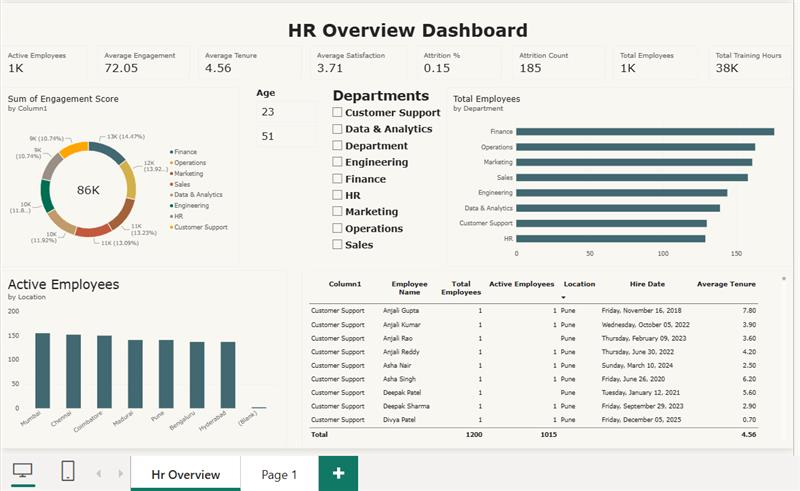

What the dashboard file says about the page in this screenshot:
{"tool":"powerbi","page":{"name":"Hr Overview","canvas":[1920,1080],"ordinal":0},"visuals":[{"type":"slicer","fields":{"Values":["Departments.Column1"]},"box":[866.1,207.6,283.3,433.6],"z":0},{"type":"cardVisual","fields":{"Data":["Date_Table.Active Employees"]},"box":[0,103.5,209.4,83.8],"z":1000},{"type":"cardVisual","fields":{"Data":["Date_Table.Attrition %"]},"box":[1007.6,103.5,206.9,83.8],"z":2000},{"type":"cardVisual","fields":{"Data":["Date_Table.Average Engagement"]},"box":[234,103.5,224.2,83.8],"z":3000},{"type":"cardVisual","fields":{"Data":["Date_Table.Average Satisfaction"]},"box":[749,103.5,236.5,83.8],"z":4000},{"type":"cardVisual","fields":{"Data":["Date_Table.Average Tenure"]},"box":[478,103.5,251.3,83.8],"z":5000},{"type":"cardVisual","fields":{"Data":["Date_Table.Attrition Count"]},"box":[1239.2,103.5,226.7,83.8],"z":6000},{"type":"donutChart","fields":{"Y":["Sum(Employees_Raw.Engagement Score)"],"Category":["Departments.Column1"]},"box":[0,204.5,576.5,436.1],"z":7000},{"type":"cardVisual","fields":{"Data":["Date_Table.Total Employees"]},"box":[1483.1,103.5,206.9,83.8],"z":8000},{"type":"cardVisual","fields":{"Data":["Date_Table.Total Training Hours"]},"box":[1714.7,103.5,202,83.8],"z":9000},{"type":"clusteredBarChart","fields":{"Category":["Employees_Raw.Department"],"Y":["Date_Table.Total Employees"]},"box":[1164.3,236.2,756.3,434.2],"z":10000},{"type":"clusteredColumnChart","fields":{"Category":["Employees_Raw.Location"],"Y":["Date_Table.Active Employees"]},"box":[0,649,806.4,429.5],"z":11000},{"type":"slicer","fields":{"Values":["Employees_Raw.Age"]},"box":[577.4,229,288.7,243.4],"z":12000},{"type":"tableEx","fields":{"Values":["Departments.Column1","Employees_Raw.Employee Name","Date_Table.Total Employees","Date_Table.Active Employees","Employees_Raw.Location","Employees_Raw.Hire Date","Date_Table.Average Tenure"]},"box":[806.4,649,1111.8,429.5],"z":13000},{"type":"textbox","box":[694.8,22.2,583.9,123.2],"z":14000}]}

Visuals, with their boxes on the page's 1920x1080 design canvas (x1, y1, x2, y2). These are canvas units, not pixel positions in the 800x491 screenshot, which may show the page scaled, cropped or inside an application window:
slicer - Departments.Column1: bbox(866, 208, 1149, 641)
cardVisual - Date_Table.Active Employees: bbox(0, 104, 209, 187)
cardVisual - Date_Table.Attrition %: bbox(1008, 104, 1214, 187)
cardVisual - Date_Table.Average Engagement: bbox(234, 104, 458, 187)
cardVisual - Date_Table.Average Satisfaction: bbox(749, 104, 986, 187)
cardVisual - Date_Table.Average Tenure: bbox(478, 104, 729, 187)
cardVisual - Date_Table.Attrition Count: bbox(1239, 104, 1466, 187)
donutChart - Sum(Employees_Raw.Engagement Score) x Departments.Column1: bbox(0, 204, 576, 641)
cardVisual - Date_Table.Total Employees: bbox(1483, 104, 1690, 187)
cardVisual - Date_Table.Total Training Hours: bbox(1715, 104, 1917, 187)
clusteredBarChart - Employees_Raw.Department x Date_Table.Total Employees: bbox(1164, 236, 1921, 670)
clusteredColumnChart - Employees_Raw.Location x Date_Table.Active Employees: bbox(0, 649, 806, 1078)
slicer - Employees_Raw.Age: bbox(577, 229, 866, 472)
tableEx - Departments.Column1 x Employees_Raw.Employee Name: bbox(806, 649, 1918, 1078)
textbox: bbox(695, 22, 1279, 145)
